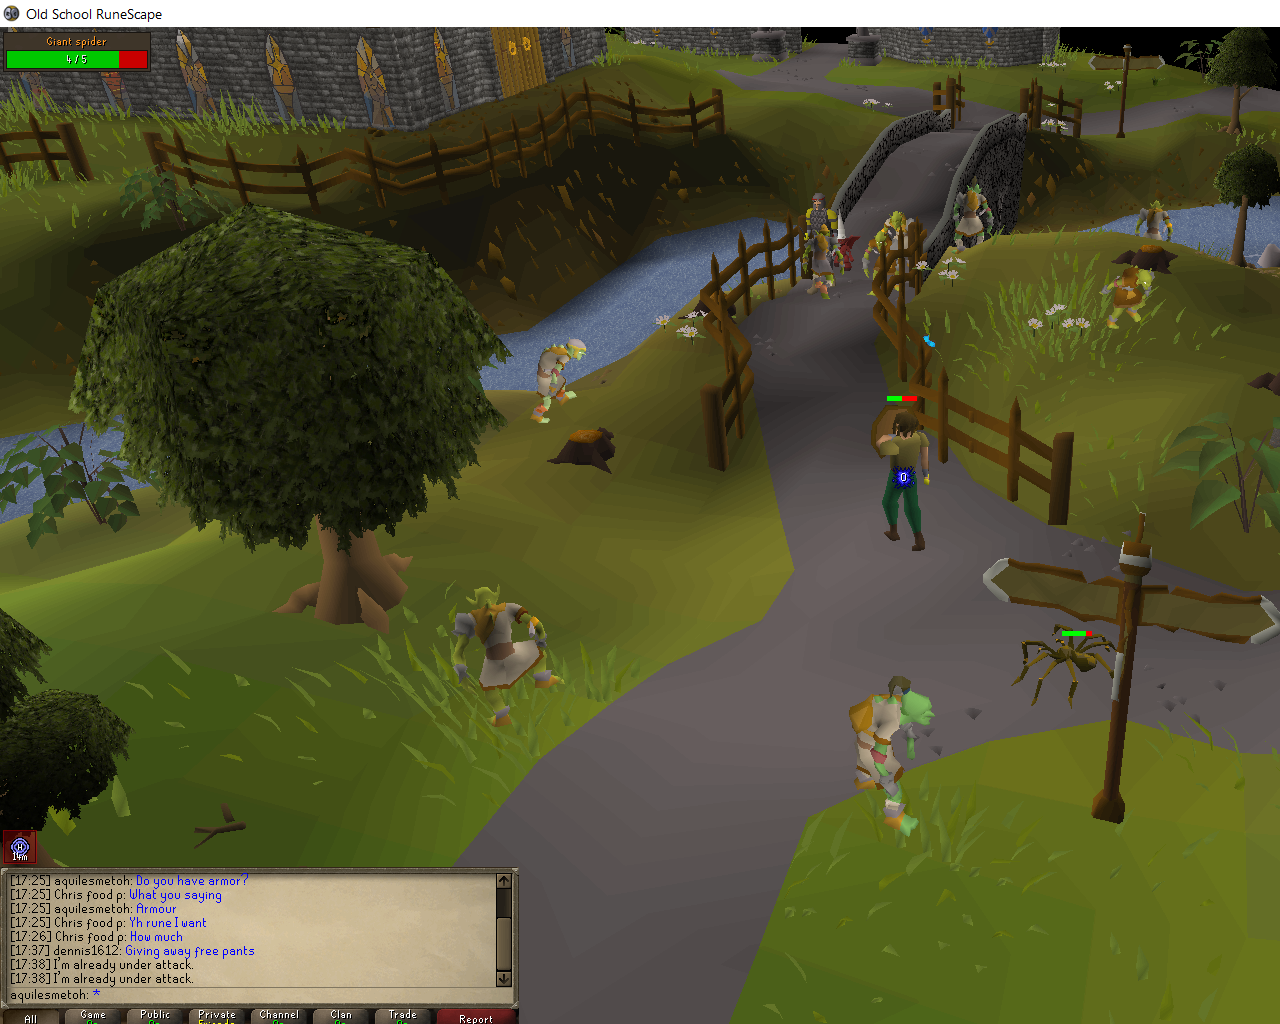Goblin: (444, 583, 575, 734), (845, 671, 940, 839), (527, 334, 584, 427), (1098, 262, 1151, 333), (950, 179, 1003, 249), (802, 222, 845, 302), (860, 230, 905, 297), (877, 210, 921, 272), (1136, 199, 1176, 245)
